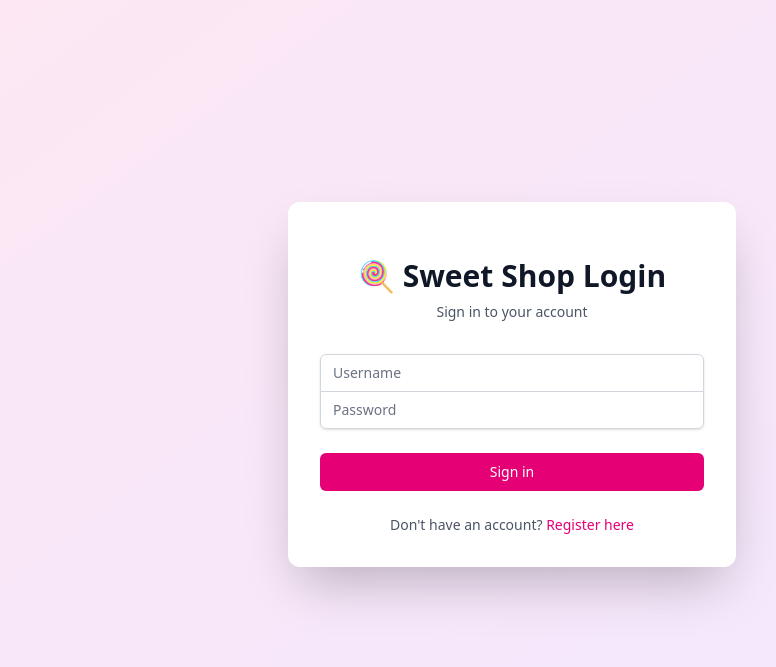
Test: Login Page › should show error message on failed login
Type "testuser" into the field with placeholder "Username" at (512, 372), box [320, 354, 704, 392]
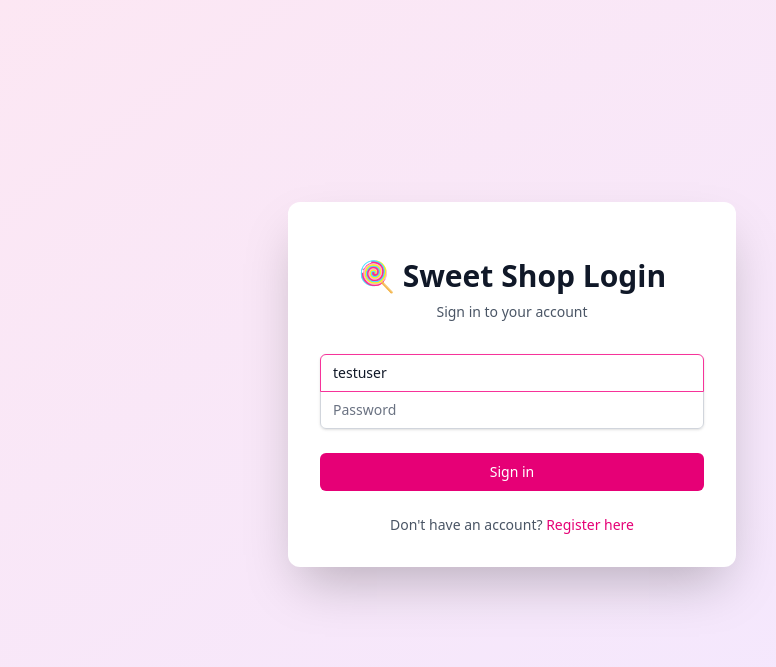
Type "wrongpassword" into the password field with placeholder "Password" at (512, 410), box [320, 390, 704, 428]
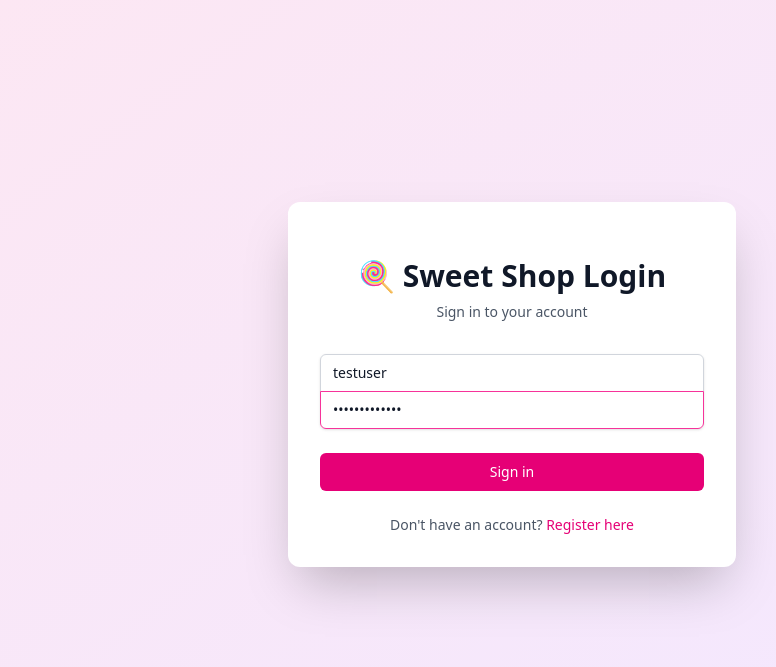
Click the button "Sign in" at (512, 472), box [320, 452, 704, 490]
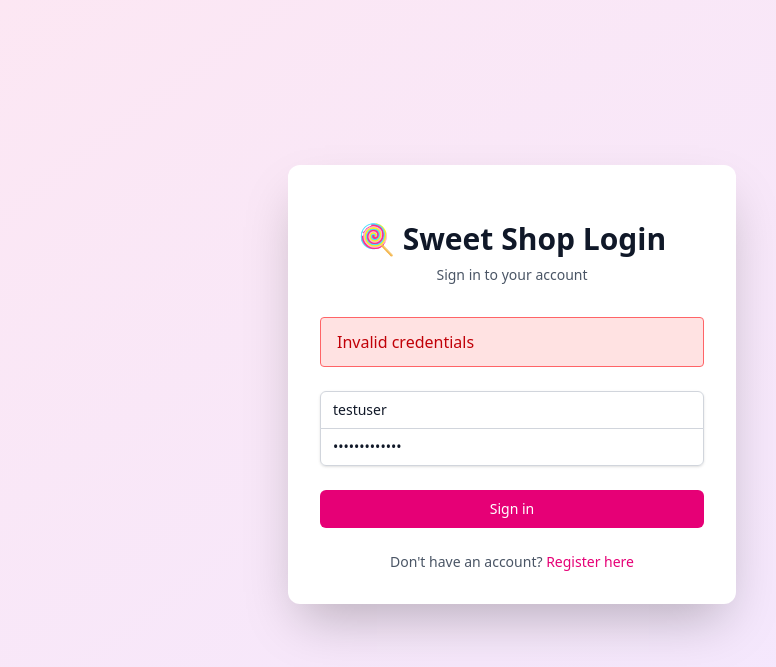
Expected: the text "Invalid credentials" is shown, [320, 316, 704, 366]
